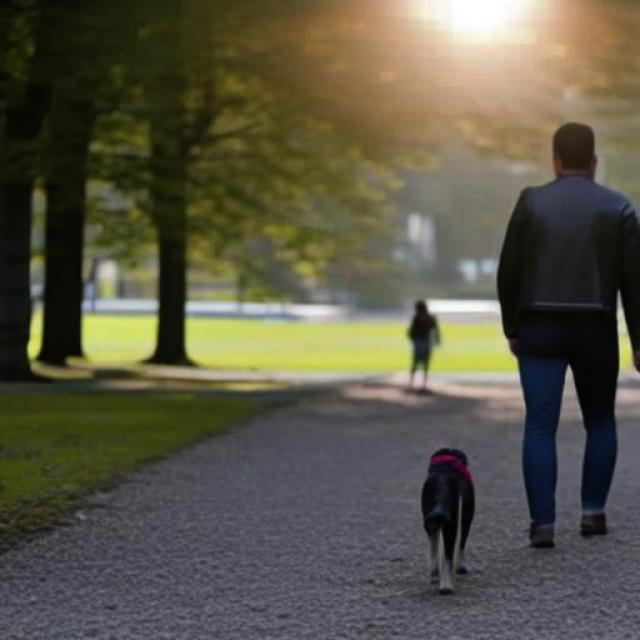Unleashed_Dog: (420, 317, 613, 595)
